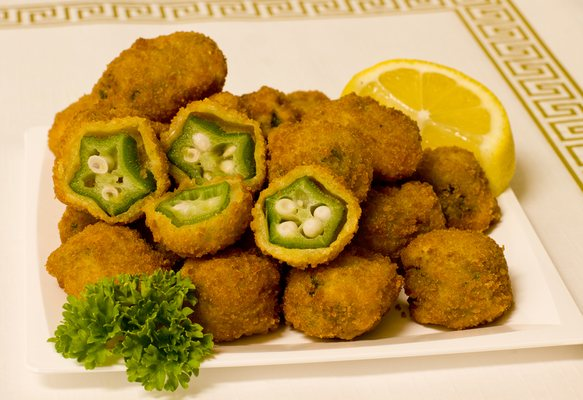curry: (49, 267, 216, 391)
taco: (340, 60, 517, 195)
